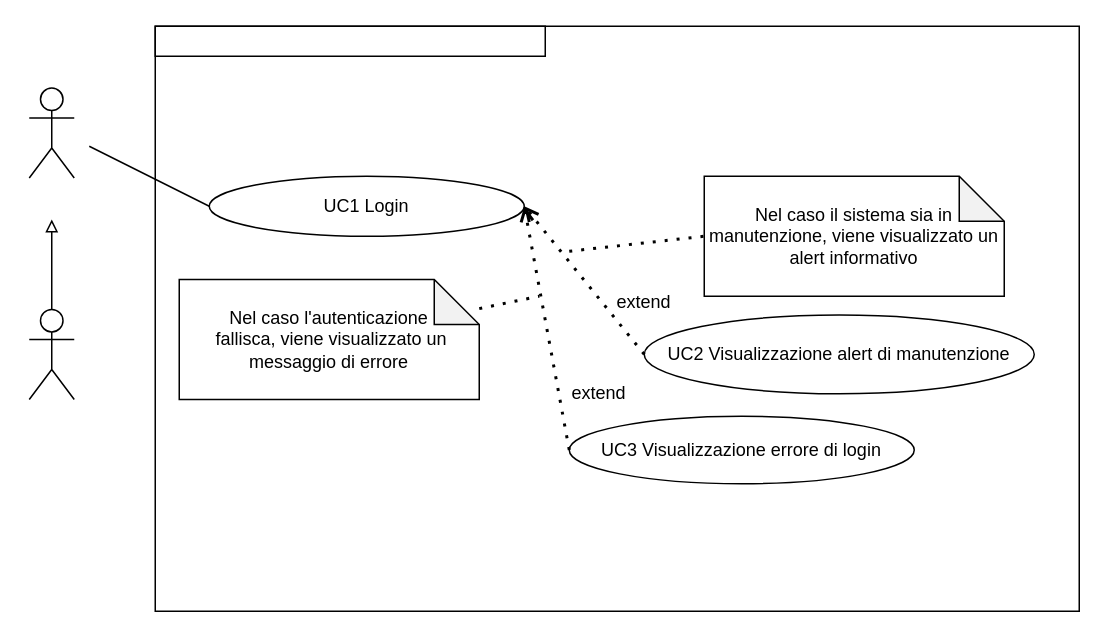
Image size: 1106x638. Some labels were removed from this diagram. The box of each missing label's shape, as (x1, y1, x2, y2) in pixels:
Admin: (28, 308, 74, 399)
Interfaccia web: (154, 25, 545, 56)
User: (28, 87, 74, 178)
